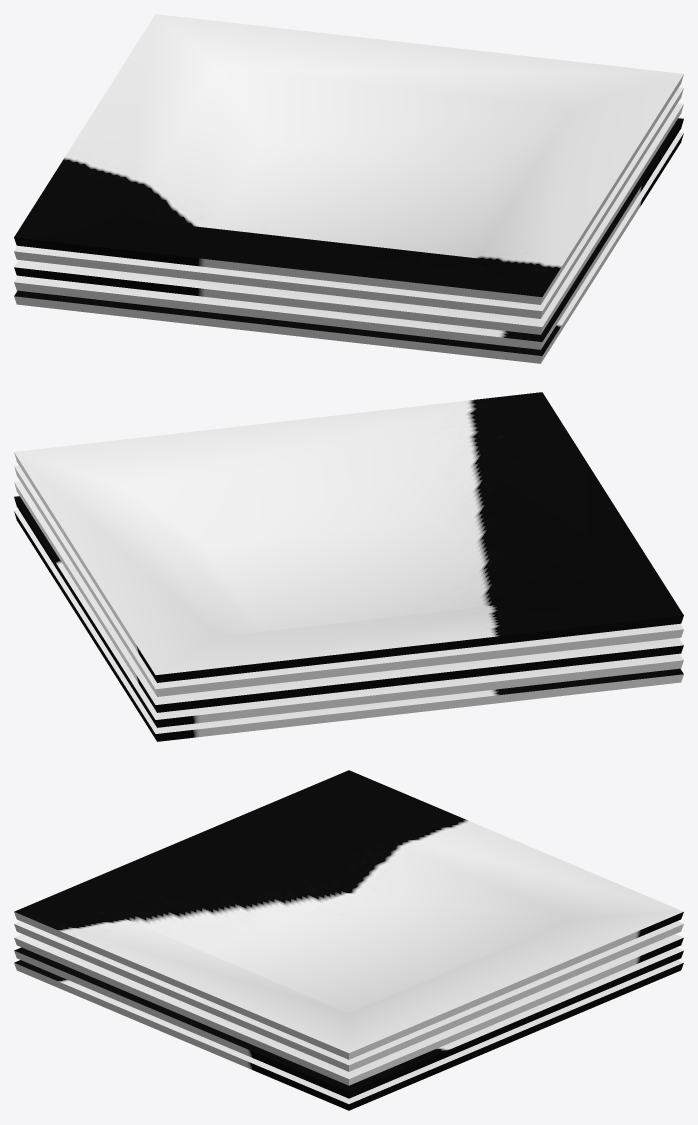
Rendered from plates.dae.
3 renders of one model, top to bottom at view 1: azimuth 30°, elevation 25°; view 2: azimuth 150°, elevation 25°; view 3: azimuth 270°, elevation 25°, orthographic. The views are drawn at different scales.
Visible parts, largest first — view 1: Lathe_NURBS.5, Lathe_NURBS.7, Lathe_NURBS.8, Lathe_NURBS.9, Lathe_NURBS.6; view 2: Lathe_NURBS.5, Lathe_NURBS.7, Lathe_NURBS.8, Lathe_NURBS.9, Lathe_NURBS.6; view 3: Lathe_NURBS.5, Lathe_NURBS.7, Lathe_NURBS.8, Lathe_NURBS.6, Lathe_NURBS.9.
Part boxes in pixels (x1,y1,x2,y2): Lathe_NURBS.5: (14, 14, 683, 304); Lathe_NURBS.7: (14, 103, 683, 334); Lathe_NURBS.8: (14, 118, 683, 349); Lathe_NURBS.9: (14, 132, 683, 363); Lathe_NURBS.6: (14, 87, 683, 318); Lathe_NURBS.5: (14, 392, 683, 682); Lathe_NURBS.7: (14, 481, 683, 712); Lathe_NURBS.8: (14, 496, 683, 727); Lathe_NURBS.9: (14, 510, 683, 741); Lathe_NURBS.6: (14, 465, 683, 696); Lathe_NURBS.5: (14, 770, 683, 1059); Lathe_NURBS.7: (14, 934, 683, 1085); Lathe_NURBS.8: (14, 947, 683, 1098); Lathe_NURBS.6: (14, 921, 683, 1071); Lathe_NURBS.9: (14, 960, 683, 1110).
Size of the model in its own units: 123 by 19.51 by 123.
